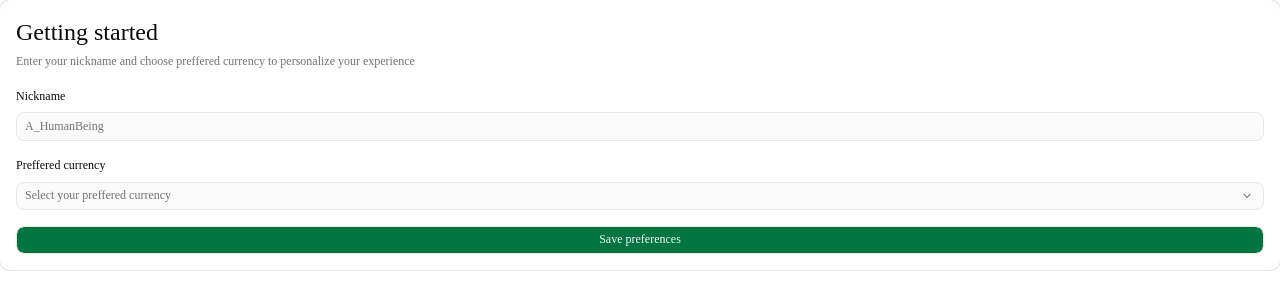
Test case: CreateUserForm › should depend on the provided currencies instead of a hardcoded list
The width and height of the screenshot is (1280, 288).
Press the mouse on the dropdown at (626, 196), box [17,182,1235,210]
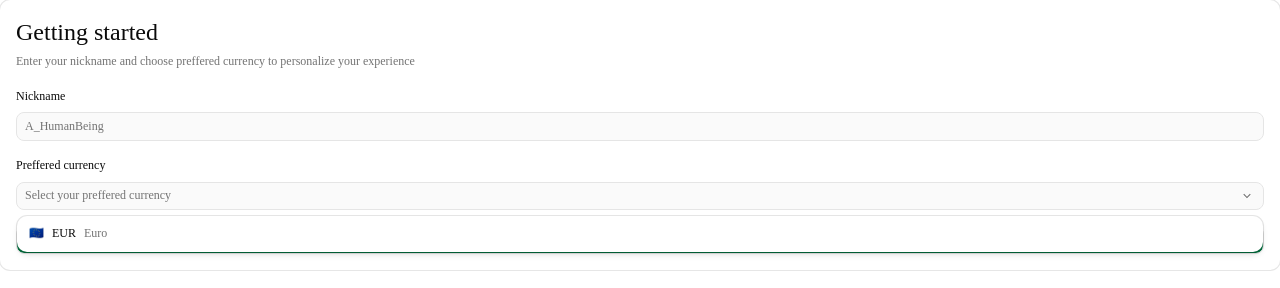
Expected: the number of options is 1, [29,226,107,240]
